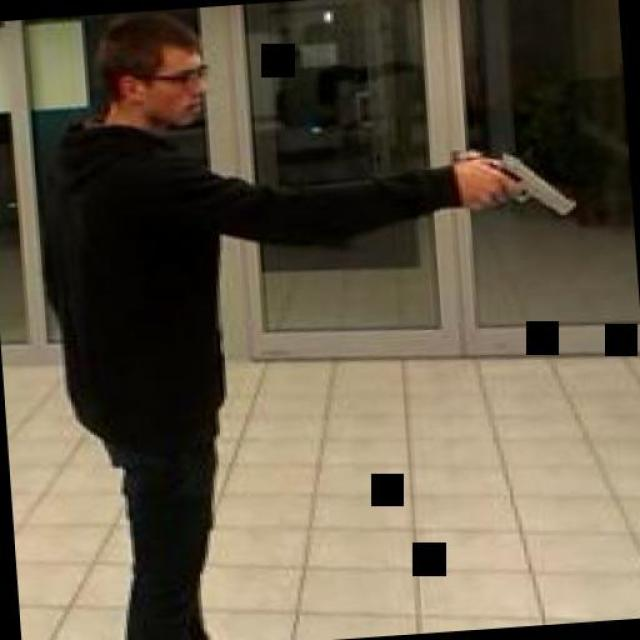gun: (470, 145, 574, 221)
